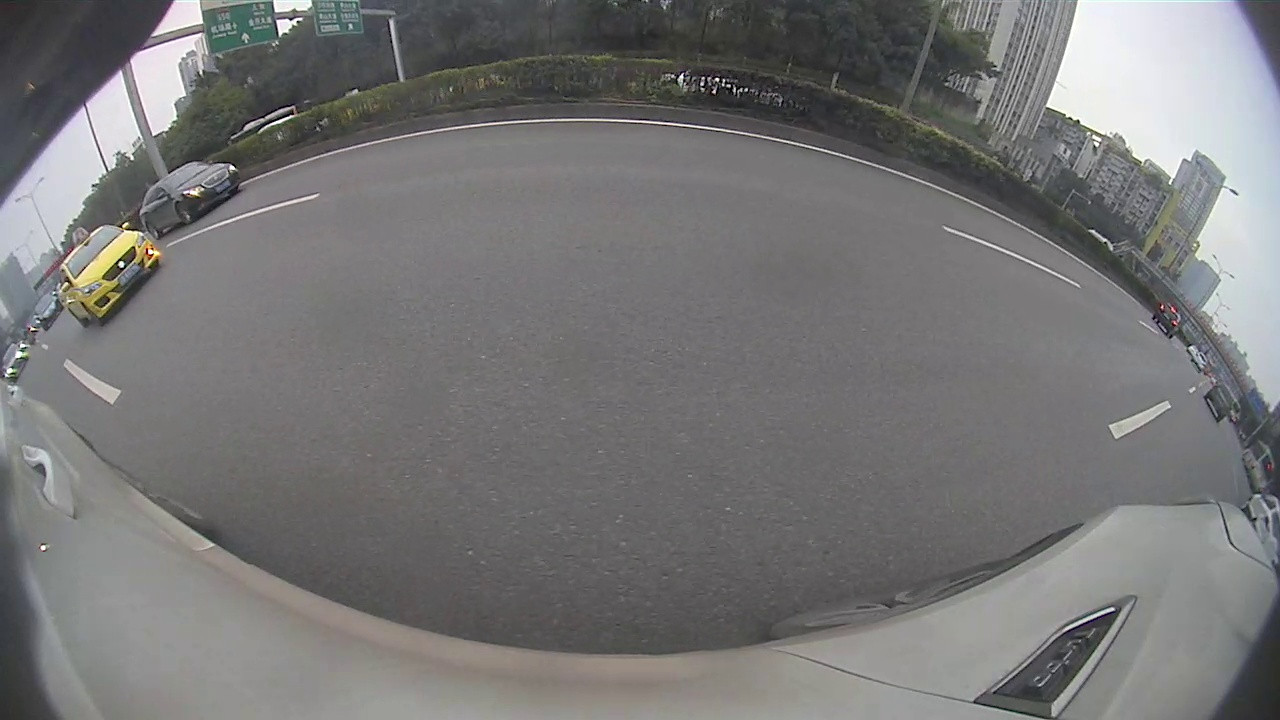car: (54, 216, 162, 330), (136, 158, 244, 243), (1201, 381, 1239, 425), (1151, 300, 1184, 341)
front: (174, 201, 193, 227)
rear: (146, 222, 161, 240)
